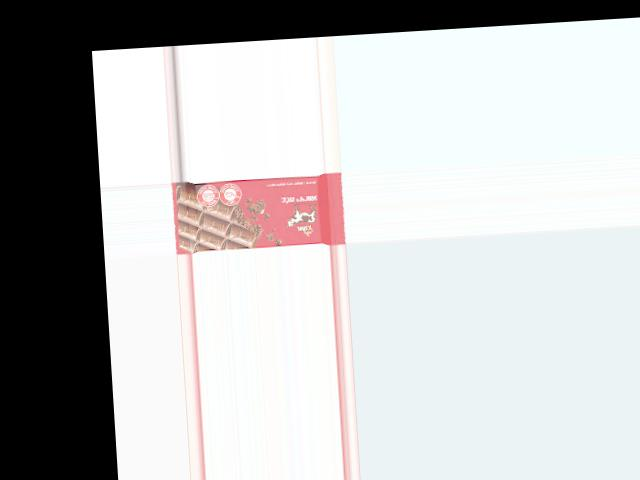chocolate: (171, 171, 343, 254)
